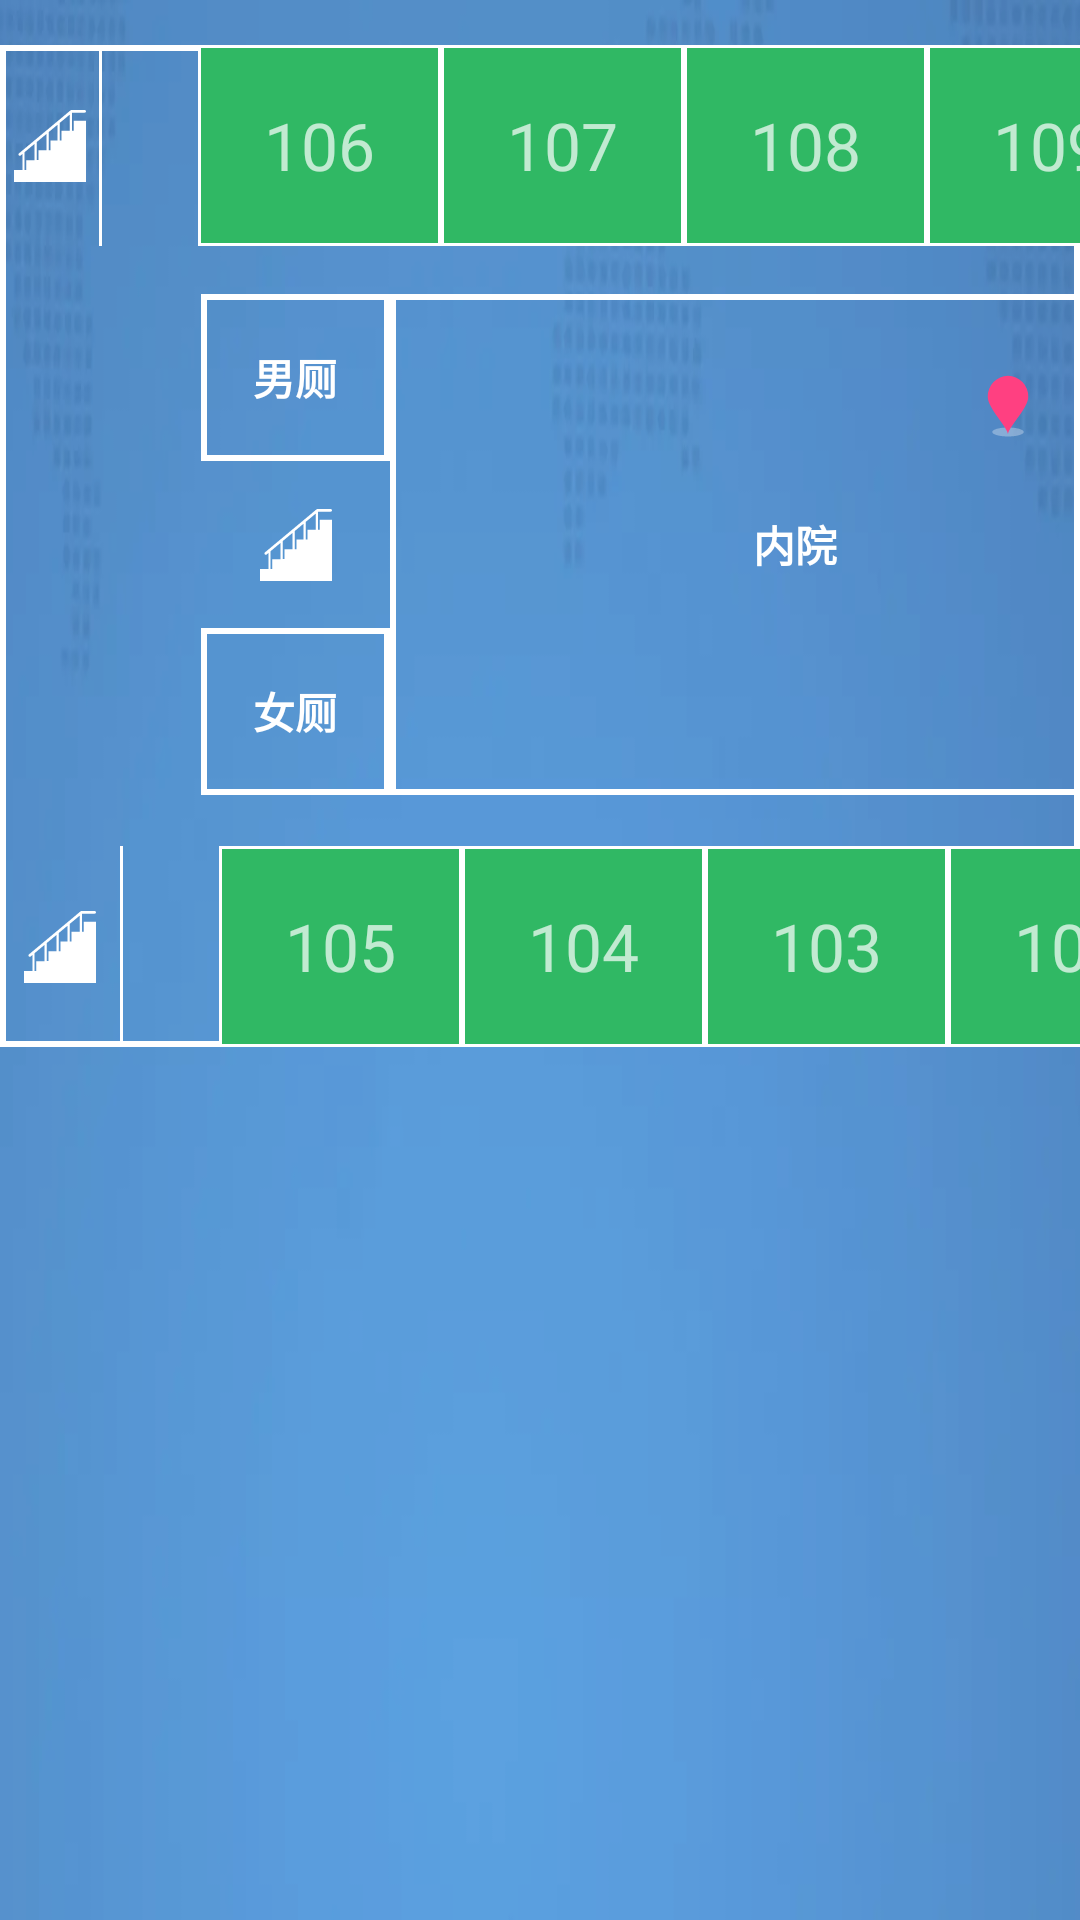

Screen size 1080x1920. Icon name, then its center in pixels as point (x, y):
position: point (1008, 406)
